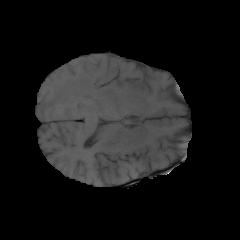glioma: (43, 69, 115, 116)
